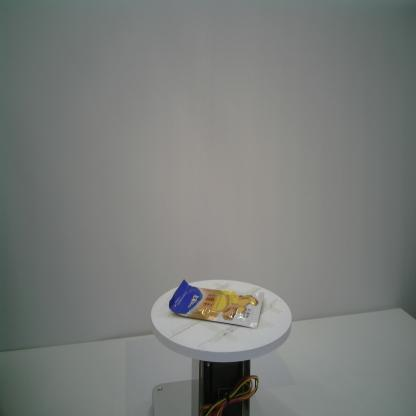Seasoner: (169, 279, 264, 329)
